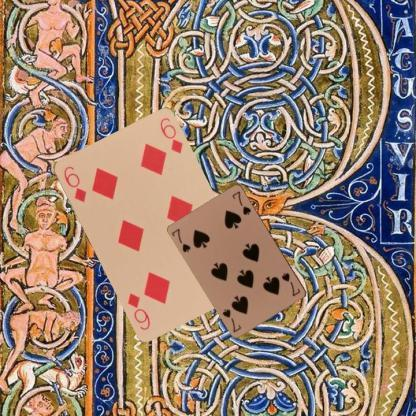6d: (61, 163, 88, 204)
7s: (279, 270, 302, 298), (169, 226, 192, 254)
